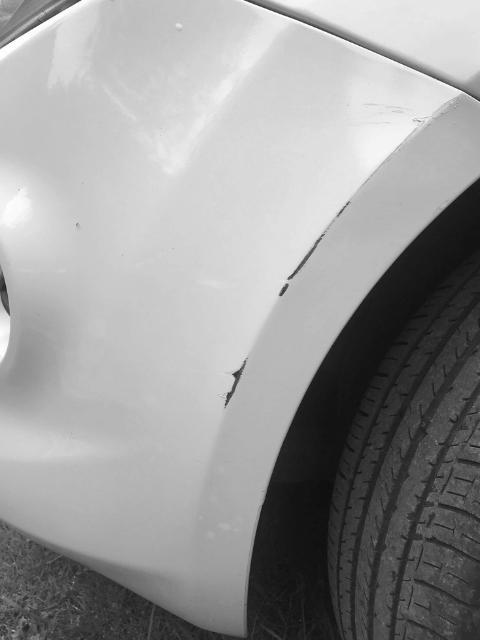Bumper: (205, 171, 368, 407)
